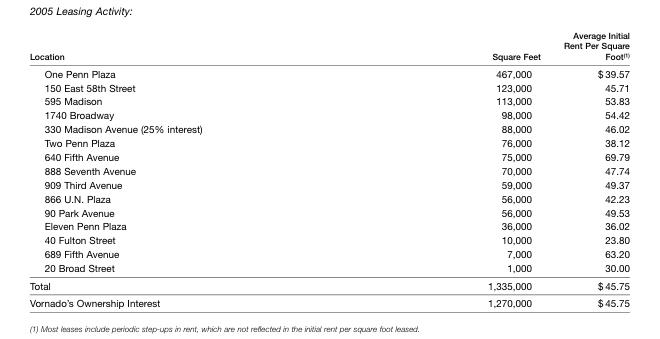table: (28, 29, 628, 308)
table column: (28, 29, 344, 308), (344, 29, 551, 308), (551, 29, 628, 308)
table column header: (28, 29, 628, 64)
table row: (28, 29, 628, 64), (28, 276, 628, 293), (28, 64, 628, 80), (28, 260, 628, 276), (28, 293, 628, 308), (28, 93, 628, 107), (28, 107, 628, 121), (28, 121, 628, 135), (28, 135, 628, 149), (28, 149, 628, 163), (28, 163, 628, 177), (28, 177, 628, 191), (28, 204, 628, 218), (28, 218, 628, 232), (28, 232, 628, 246), (28, 246, 628, 260), (28, 80, 628, 93), (28, 191, 628, 204)
